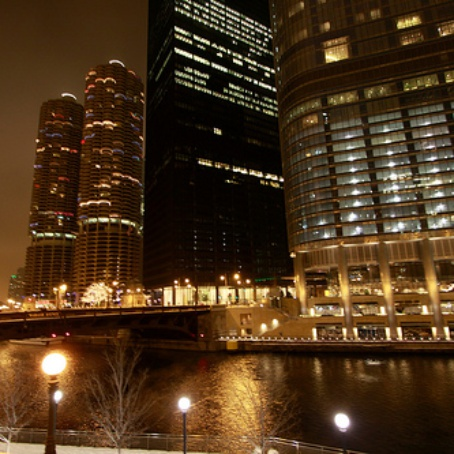bridge: (14, 281, 252, 354)
building: (280, 1, 454, 338), (150, 1, 281, 305), (79, 44, 151, 296), (14, 84, 87, 301)
light pole: (34, 338, 73, 454), (176, 388, 199, 454), (326, 406, 355, 454)
river: (6, 344, 454, 448)
